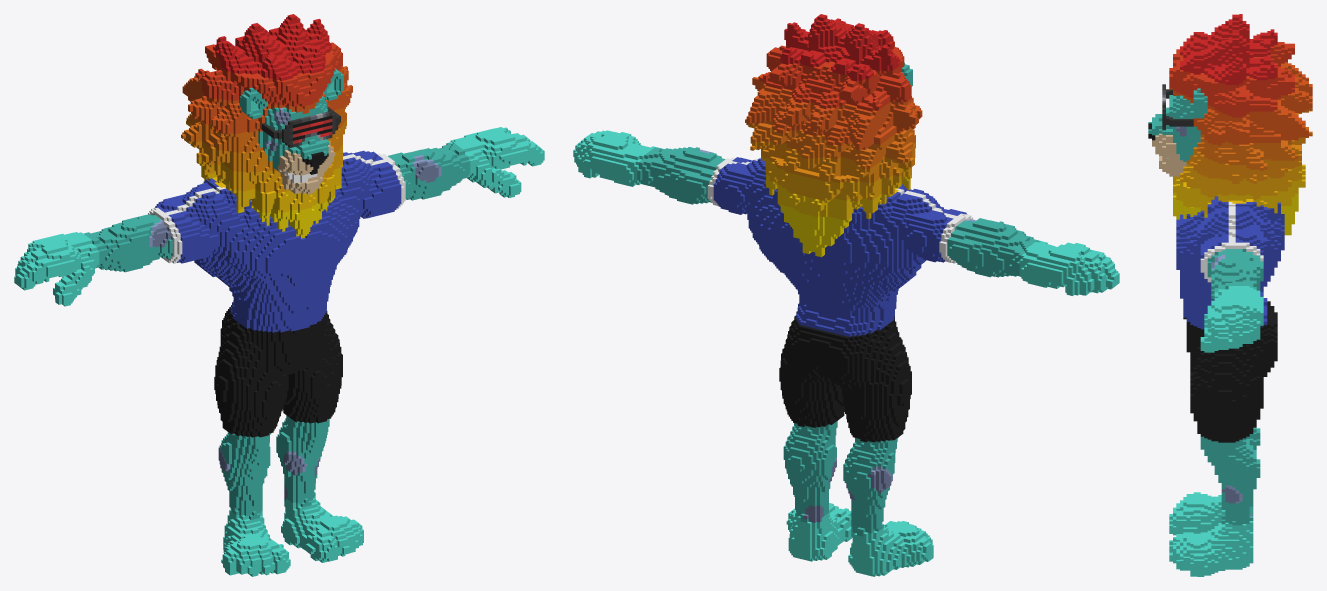
The model's file is 417-BjtinbFj.glb.
The picture shows the model from 3 angles, left to right: view 1: azimuth 30°, elevation 25°; view 2: azimuth 150°, elevation 25°; view 3: azimuth 270°, elevation 25°; orthographic projection. The views are drawn at different scales.
Parts seen in each view (by area): view 1: grin; view 2: grin; view 3: grin.
Boxes of the visible parts, bbox=[...] form: grin: bbox=[14, 14, 544, 576]; grin: bbox=[573, 14, 1119, 576]; grin: bbox=[1148, 14, 1312, 576].
Size of the model in its own units: 17.2 by 16.5 by 4.7.
5 materials, 5 textured.
